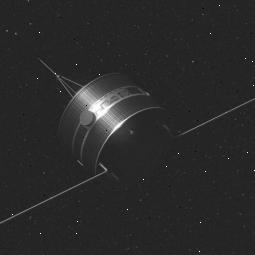double_start: (39, 64, 188, 190)
